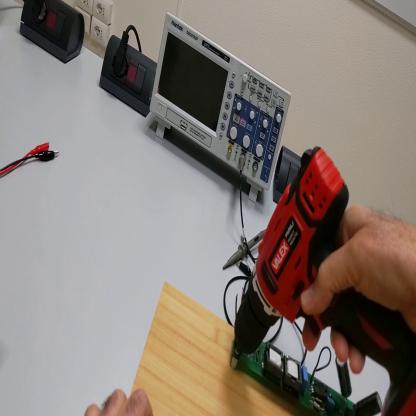electric screwdriver: (235, 147, 416, 415)
hand: (302, 203, 414, 370), (86, 384, 151, 416)
high voltage board: (234, 343, 383, 416)
oscilloscope: (154, 11, 293, 208)
oscilloscope probe tip: (224, 227, 269, 276)
socket: (98, 33, 159, 117), (19, 2, 87, 68)
working area: (131, 283, 300, 416)
